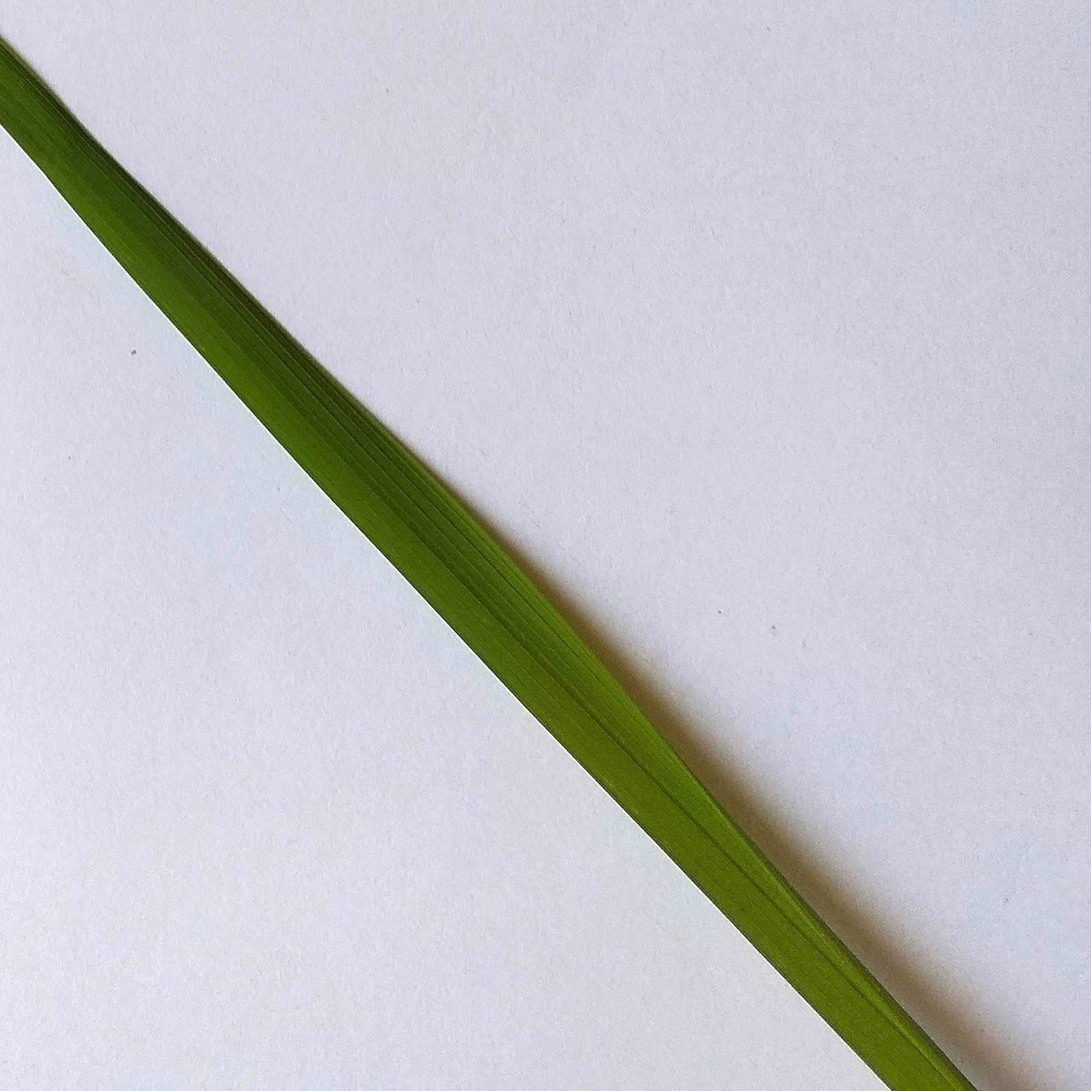Healthy: (0, 43, 974, 1090)
